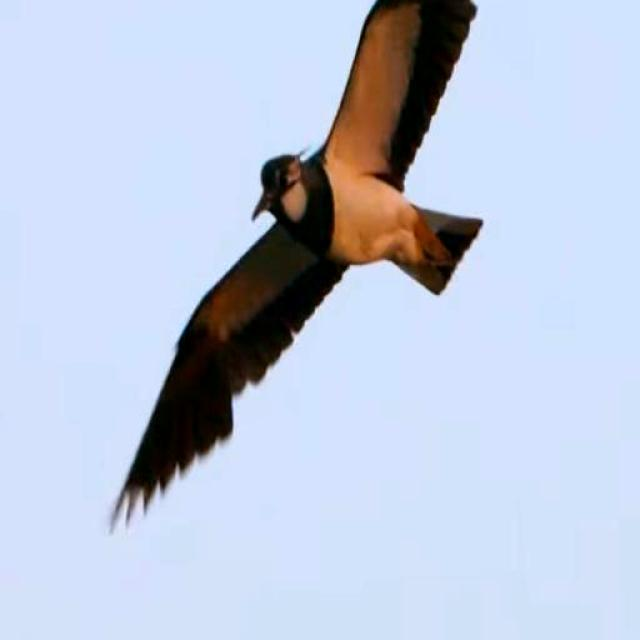airplane: (104, 0, 546, 539)
